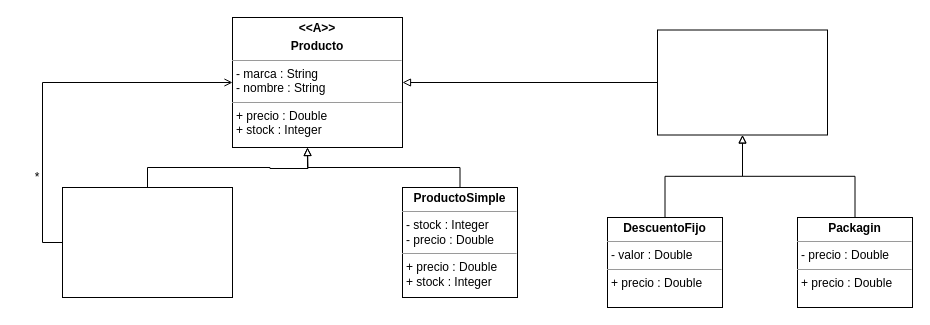
This 930x325 diagram has some shape labels left out. The centre of each missing label's shape, as x and y in pixels:
"<<A>> Decorado - producto : Producto + precio : Double" goes at (x=742, y=82).
"Combo - productos : List<Producto> + stock : Integer + precio : Double" goes at (x=147, y=242).
